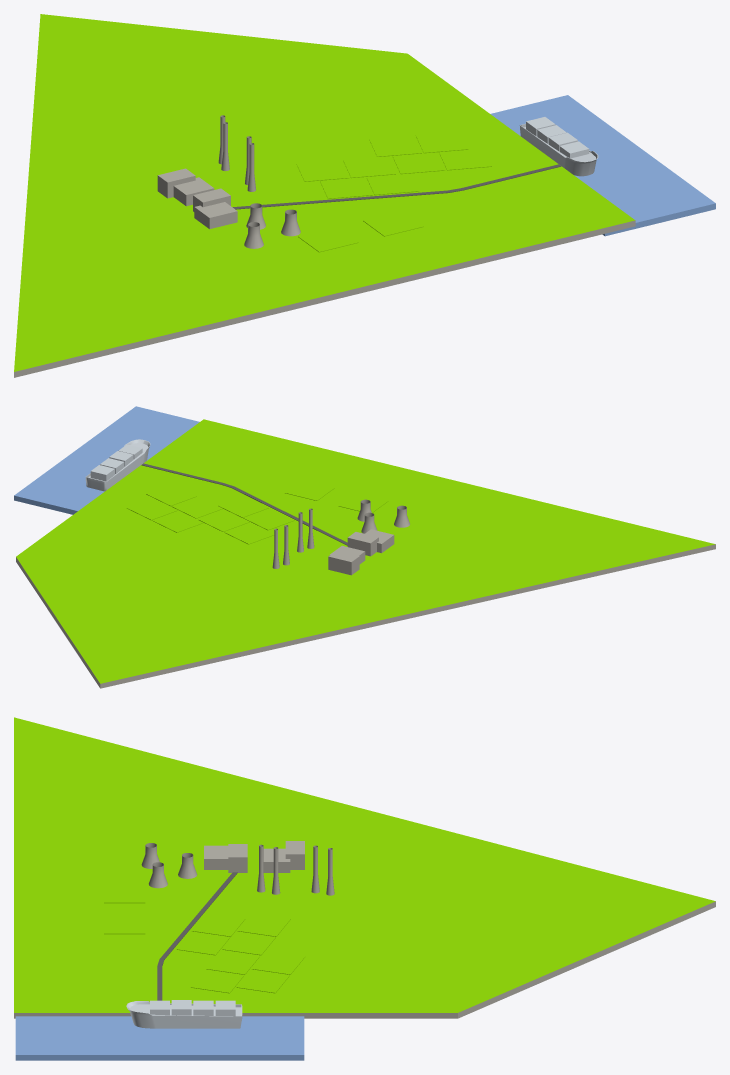
The model's file is ship_far_left_scene_v001.fbx.
3 views of the same model, one above another, from view 1: azimuth 30°, elevation 25°; view 2: azimuth 150°, elevation 25°; view 3: azimuth 270°, elevation 25° (orthographic). The views are drawn at different scales.
Visible parts, largest first — view 1: pCube9, pCube8, pCube20, pCube22, pCube19, pCube21, pCube6, pCube10, pCube15, pCube18, pCube11, pCube14 (+1 smaller); view 2: pCube9, pCube8, pCube22, pCube19, pCube20, pCube21, pCube6, pCube10, pCube14, pCube18, pCube12, pCube15; view 3: pCube9, pCube8, pCube6, pCube20, pCube19, pCube22, pCube21, pCube15, pCube18, pCube10, pCube11, pCube12 (+1 smaller).
Boxes of the visible parts, left/top/right/bottom form: pCube9: left=14, top=14, right=635, bottom=377; pCube8: left=490, top=95, right=715, bottom=236; pCube20: left=296, top=156, right=395, bottom=181; pCube22: left=392, top=148, right=491, bottom=174; pCube19: left=320, top=173, right=419, bottom=198; pCube21: left=369, top=131, right=468, bottom=156; pCube6: left=519, top=123, right=598, bottom=176; pCube10: left=232, top=164, right=561, bottom=209; pCube15: left=298, top=227, right=358, bottom=252; pCube18: left=363, top=211, right=423, bottom=236; pCube11: left=194, top=202, right=237, bottom=229; pCube14: left=157, top=168, right=195, bottom=198; pCube9: left=16, top=419, right=715, bottom=688; pCube8: left=14, top=406, right=199, bottom=514; pCube22: left=146, top=484, right=222, bottom=518; pCube19: left=218, top=496, right=294, bottom=530; pCube20: left=199, top=510, right=274, bottom=544; pCube21: left=127, top=498, right=202, bottom=532; pCube6: left=85, top=439, right=150, bottom=491; pCube10: left=141, top=463, right=347, bottom=545; pCube14: left=328, top=550, right=359, bottom=575; pCube18: left=285, top=480, right=334, bottom=500; pCube12: left=347, top=532, right=378, bottom=556; pCube15: left=338, top=493, right=388, bottom=512; pCube9: left=14, top=717, right=715, bottom=1018; pCube8: left=15, top=1016, right=304, bottom=1060; pCube6: left=126, top=1001, right=242, bottom=1028; pCube20: left=222, top=913, right=290, bottom=955; pCube19: left=176, top=913, right=245, bottom=955; pCube22: left=191, top=951, right=259, bottom=993; pCube21: left=236, top=951, right=304, bottom=993; pCube15: left=104, top=884, right=145, bottom=903; pCube18: left=104, top=915, right=145, bottom=934; pCube10: left=157, top=872, right=237, bottom=1000; pCube11: left=204, top=845, right=228, bottom=869; pCube12: left=228, top=844, right=247, bottom=872.
Bounding box in the file's own units: 101 × 7.66 × 89.99.
